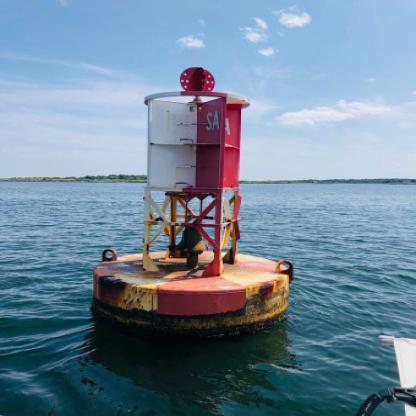buoy: (77, 59, 313, 332)
